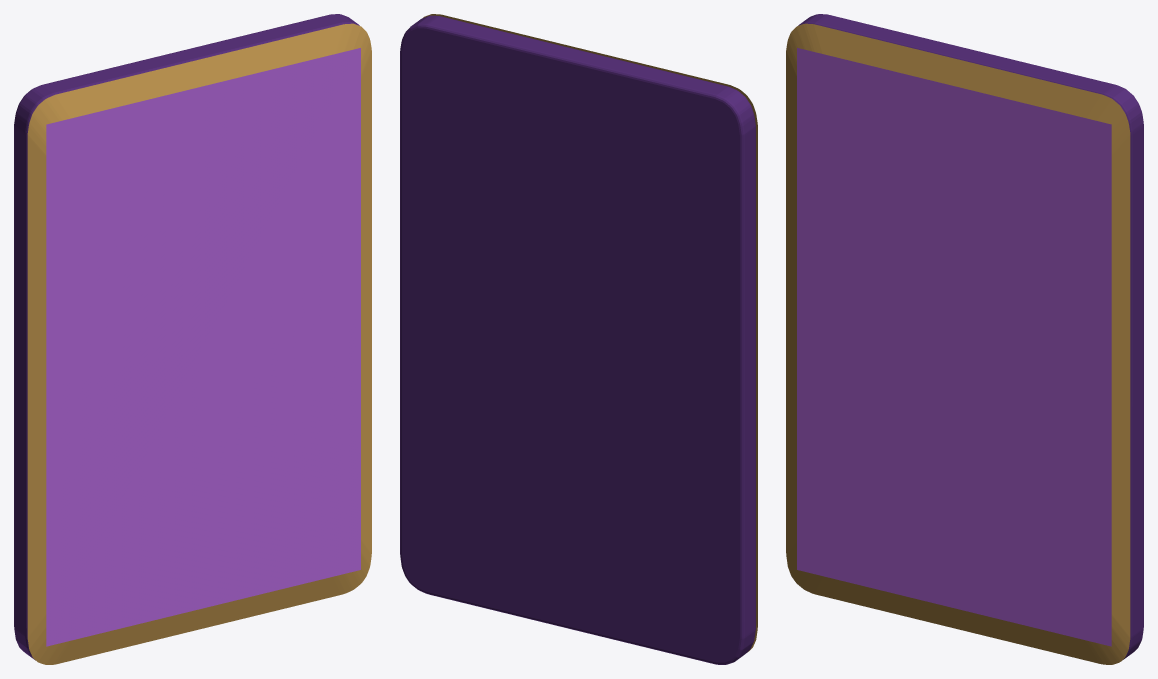
File: card.glb
3 renders of one model, left to right at view 1: azimuth 30°, elevation 25°; view 2: azimuth 150°, elevation 25°; view 3: azimuth 330°, elevation 25°, orthographic.
Parts seen in each view (by area): view 1: Artwork, GoldFrame, CardBody; view 2: CardBody, GoldFrame; view 3: Artwork, GoldFrame, CardBody.
Boxes of the visible parts, box(x1,y1,x2,y2) form: Artwork: box(46, 48, 360, 646); GoldFrame: box(27, 23, 371, 664); CardBody: box(14, 14, 359, 660); CardBody: box(400, 15, 755, 664); GoldFrame: box(423, 14, 757, 652); Artwork: box(797, 48, 1111, 646); GoldFrame: box(786, 23, 1130, 664); CardBody: box(798, 14, 1143, 659).
Size of the model in its own units: 0.98 by 1.55 by 0.092.
